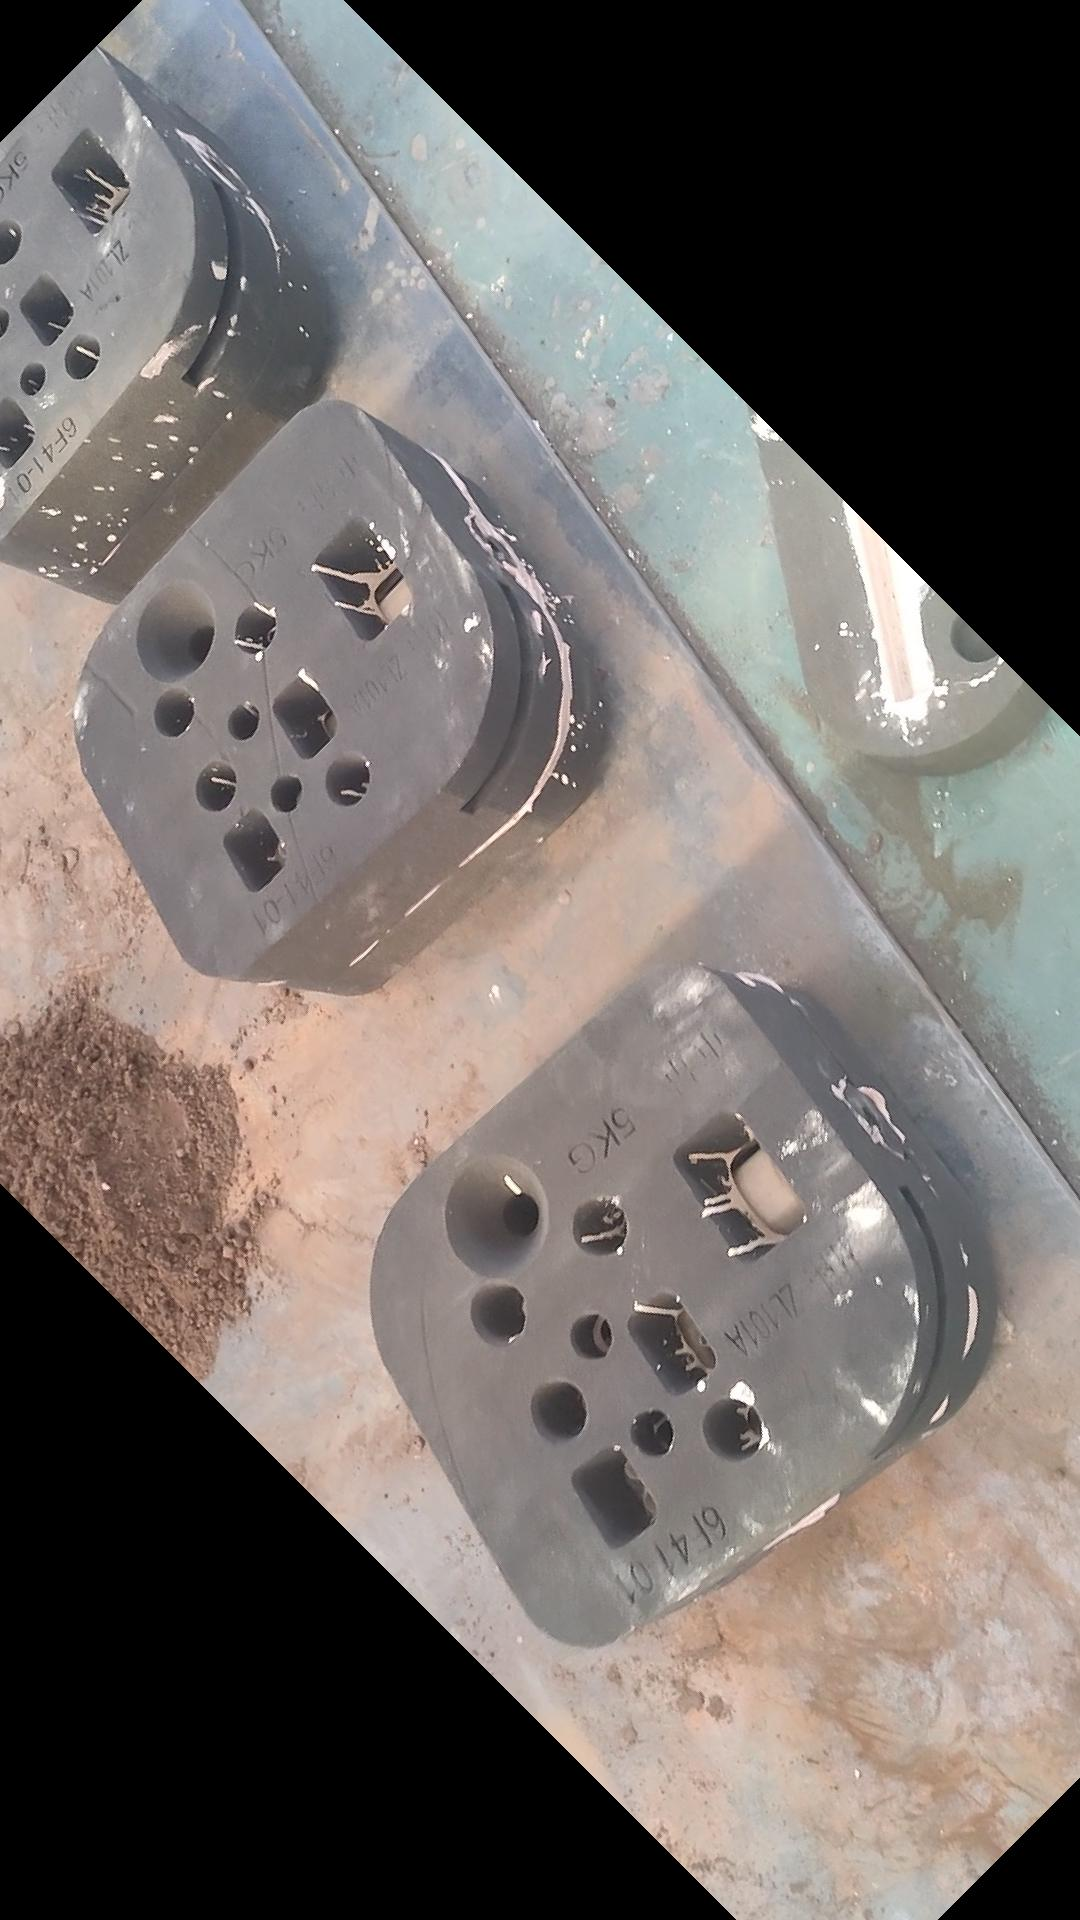pouring hole: (444, 1153, 551, 1280), (135, 578, 218, 684)
